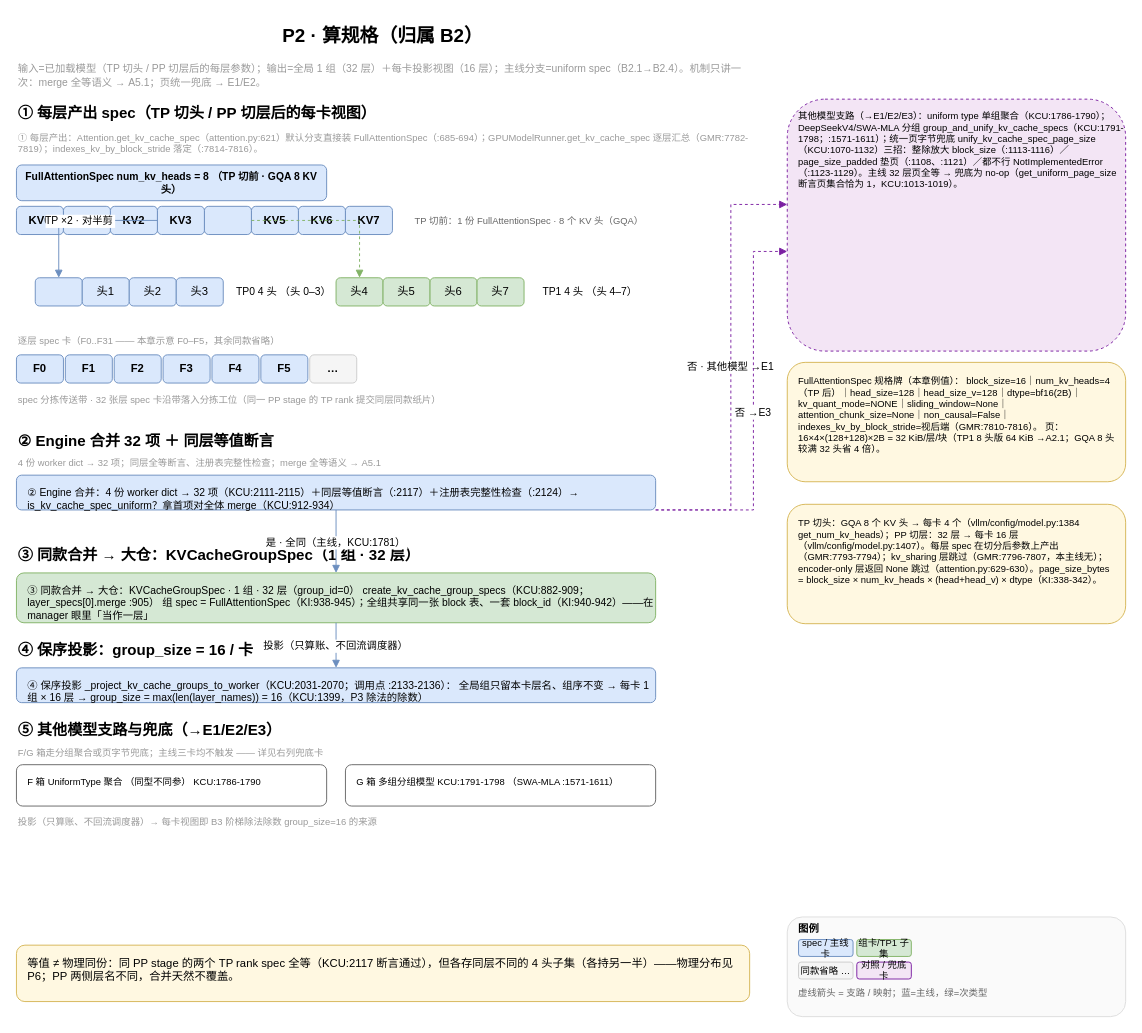
Image size: 1142x1033. Some labels were removed from this diagram. The shapes that lost their labels are listed below. From the top down, each one's box as (x1, y1, x2, y2) in pixels, then its label:
(204, 205, 251, 235): KV4
(34, 277, 82, 306): 头0
